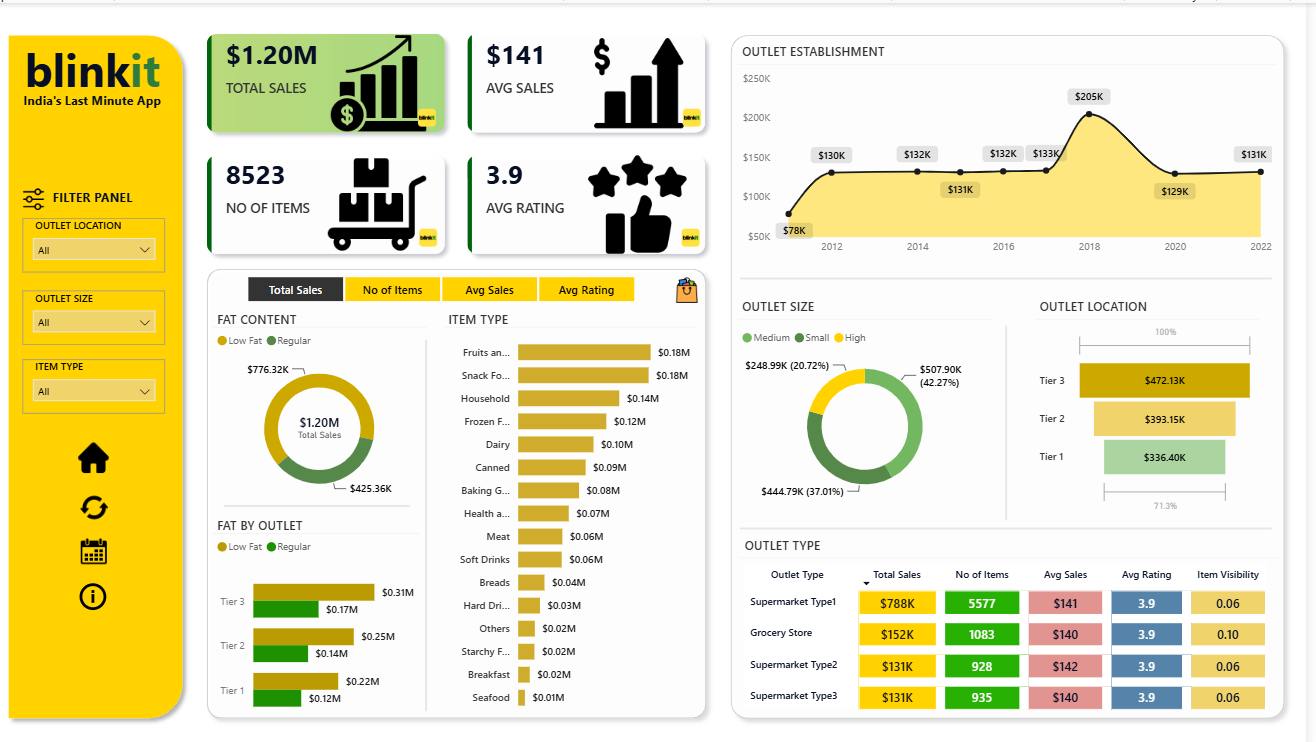

This screenshot's page, from the dashboard's own definition file:
{"tool":"powerbi","page":{"name":"Home","canvas":[1400,800],"ordinal":0},"visuals":[{"type":"shape","box":[0,25.3,205,750.7],"z":0},{"type":"textbox","box":[0,33,198.1,82.1],"z":1000},{"type":"cardVisual","fields":{"Data":["BlinkIT Grocery Data.Total Sum Sales","BlinkIT Grocery Data.Average Sales","BlinkIT Grocery Data.No of Items","BlinkIT Grocery Data.Avg Rating"]},"box":[204.8,15.8,569.7,270.8],"z":2000},{"type":"image","box":[71.4,466.3,58.7,42.6],"z":3000},{"type":"image","box":[74.4,521.1,52.1,39.7],"z":4000},{"type":"image","box":[81.8,568.8,38,39.1],"z":5000},{"type":"shape","box":[774.5,25.5,611.7,751.1],"z":6000},{"type":"areaChart","title":"OUTLET ESTABLISHMENT","fields":{"Category":["BlinkIT Grocery Data.Outlet Establishment Year2"],"Y":["BlinkIT Grocery Data.Total Sum Sales"]},"box":[790.6,42.5,578.3,234],"z":7000},{"type":"textbox","box":[0,89.6,198.1,34],"z":8000},{"type":"donutChart","title":"OUTLET SIZE","fields":{"Category":["BlinkIT Grocery Data.Outlet Size"],"Y":["BlinkIT Grocery Data.Total Sum Sales"]},"box":[790.6,316,273.6,224.5],"z":9000},{"type":"funnel","title":"OUTLET LOCATION","fields":{"Category":["BlinkIT Grocery Data.Outlet Location Type"],"Y":["BlinkIT Grocery Data.Total Sum Sales"]},"box":[1110.4,316,240.6,234],"z":10000},{"type":"pivotTable","title":"OUTLET TYPE","fields":{"Rows":["BlinkIT Grocery Data.Outlet Type"],"Values":["BlinkIT Grocery Data.Total Sum Sales","BlinkIT Grocery Data.No of Items","BlinkIT Grocery Data.Average Sales","BlinkIT Grocery Data.Avg Rating","Avg(BlinkIT Grocery Data.Item Visibility)"]},"box":[793.6,572.3,578.7,197.1],"z":11000},{"type":"shape","box":[793.4,284.9,570.8,19.8],"z":12000},{"type":"shape","box":[1064.2,346.2,29.2,208.5],"z":13000},{"type":"shape","box":[212.8,276.6,553.2,500],"z":14000},{"type":"donutChart","title":"FAT CONTENT","fields":{"Category":["BlinkIT Grocery Data.Item Fat Content"],"Y":["BlinkIT Grocery Data.Total Sum Sales"]},"box":[228.3,330.2,229.2,213.2],"z":15000},{"type":"shape","box":[793.4,553.8,570.8,19.8],"z":16000},{"type":"cardVisual","fields":{"Data":["BlinkIT Grocery Data.Total Sum Sales"]},"box":[291.9,428.1,102,54.5],"z":17000},{"type":"slicer","fields":{"Values":["Metric.Metric"]},"box":[240,287.5,464.2,39.6],"z":18000},{"type":"barChart","title":"ITEM TYPE","fields":{"Category":["BlinkIT Grocery Data.Item Type"],"Y":["BlinkIT Grocery Data.Total Sum Sales"]},"box":[475.3,330.2,269.8,438.1],"z":19000},{"type":"shape","box":[442.5,360.4,29.2,399.1],"z":20000},{"type":"clusteredBarChart","title":"FAT BY OUTLET","fields":{"Category":["BlinkIT Grocery Data.Outlet Location Type"],"Series":["BlinkIT Grocery Data.Item Fat Content"],"Y":["BlinkIT Grocery Data.Total Sum Sales"]},"box":[228.3,550.9,221.7,229.2],"z":21000},{"type":"shape","box":[239.6,529.2,200,19.8],"z":22000},{"type":"image","box":[725.5,108.5,33,29.2],"z":23000},{"type":"image","box":[723.6,237.7,33,29.2],"z":24000},{"type":"image","box":[442.5,237.7,33,29.2],"z":25000},{"type":"image","box":[440.6,108.5,33,29.2],"z":26000},{"type":"image","box":[715.6,289.2,41.3,36.9],"z":27000},{"type":"slicer","fields":{"Values":["BlinkIT Grocery Data.Outlet Location Type"]},"box":[23.7,231.2,153,58],"z":29000},{"type":"slicer","fields":{"Values":["BlinkIT Grocery Data.Outlet Size"]},"box":[23.7,307.7,153,58],"z":30000},{"type":"slicer","fields":{"Values":["BlinkIT Grocery Data.Item Type"]},"box":[23.7,382.4,153,58],"z":31000},{"type":"textbox","box":[36.8,193.4,126.4,31.1],"z":32000},{"type":"image","box":[18.9,184,34.9,53.8],"z":33000},{"type":"actionButton","box":[80.6,616.6,38.5,39.7],"z":38000}]}

Visuals, with their boxes in screenshot pixels (x1, y1, x2, y2), scaled from the page's 1400x800 canvas onto the 1316x742 screenshot:
shape: bbox=[0, 23, 193, 720]
textbox: bbox=[0, 31, 186, 107]
cardVisual - BlinkIT Grocery Data.Total Sum Sales x BlinkIT Grocery Data.Average Sales: bbox=[193, 15, 728, 266]
image: bbox=[67, 432, 122, 472]
image: bbox=[70, 483, 119, 520]
image: bbox=[77, 528, 113, 564]
shape: bbox=[728, 24, 1303, 720]
"OUTLET ESTABLISHMENT" areaChart: bbox=[743, 39, 1287, 256]
textbox: bbox=[0, 83, 186, 115]
"OUTLET SIZE" donutChart: bbox=[743, 293, 1000, 501]
"OUTLET LOCATION" funnel: bbox=[1044, 293, 1270, 510]
"OUTLET TYPE" pivotTable: bbox=[746, 531, 1290, 714]
shape: bbox=[746, 264, 1282, 283]
shape: bbox=[1000, 321, 1028, 514]
shape: bbox=[200, 257, 720, 720]
"FAT CONTENT" donutChart: bbox=[215, 306, 430, 504]
shape: bbox=[746, 514, 1282, 532]
cardVisual - BlinkIT Grocery Data.Total Sum Sales: bbox=[274, 397, 370, 448]
slicer - Metric.Metric: bbox=[226, 267, 662, 303]
"ITEM TYPE" barChart: bbox=[447, 306, 700, 713]
shape: bbox=[416, 334, 443, 704]
"FAT BY OUTLET" clusteredBarChart: bbox=[215, 511, 423, 724]
shape: bbox=[225, 491, 413, 509]
image: bbox=[682, 101, 713, 128]
image: bbox=[680, 220, 711, 248]
image: bbox=[416, 220, 447, 248]
image: bbox=[414, 101, 445, 128]
image: bbox=[673, 268, 711, 302]
slicer - BlinkIT Grocery Data.Outlet Location Type: bbox=[22, 214, 166, 268]
slicer - BlinkIT Grocery Data.Outlet Size: bbox=[22, 285, 166, 339]
slicer - BlinkIT Grocery Data.Item Type: bbox=[22, 355, 166, 408]
textbox: bbox=[35, 179, 153, 208]
image: bbox=[18, 171, 51, 221]
actionButton: bbox=[76, 572, 112, 609]
